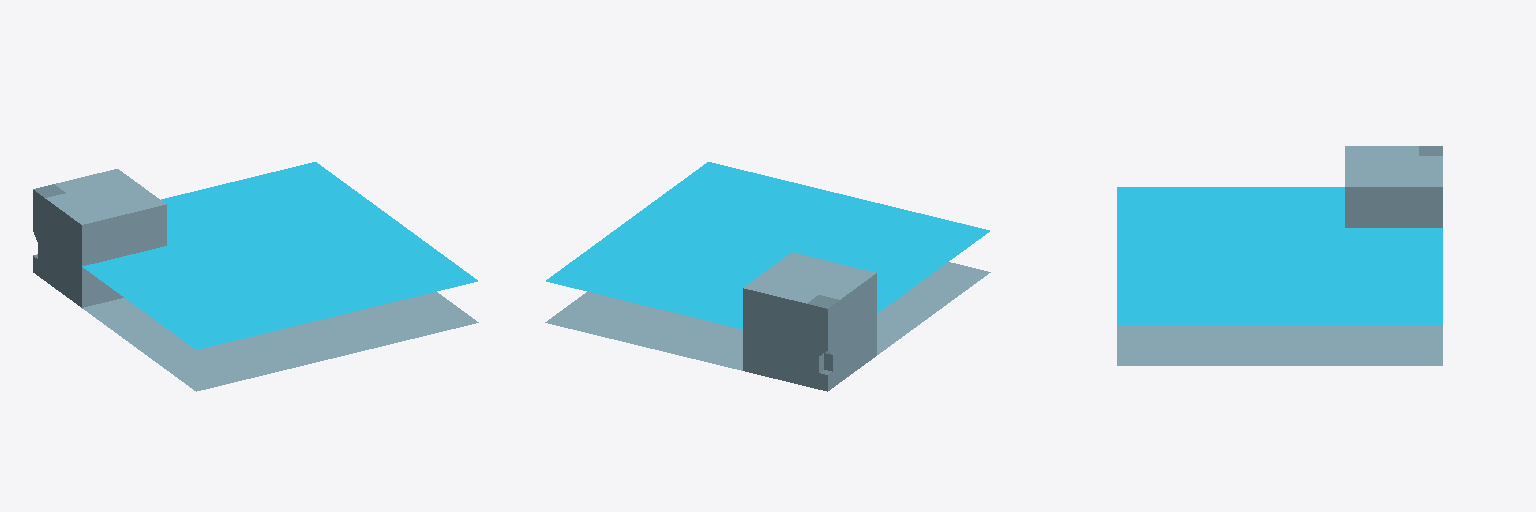
The model's file is fountainCornerInnerSquare.obj.
3 renders of one model, left to right at view 1: azimuth 30°, elevation 25°; view 2: azimuth 150°, elevation 25°; view 3: azimuth 270°, elevation 25°, orthographic.
Visible parts, largest first — view 1: fountainCornerInnerSquare; view 2: fountainCornerInnerSquare; view 3: fountainCornerInnerSquare.
Boxes of the visible parts, <box> form: fountainCornerInnerSquare: <box>33,162,478,391</box>; fountainCornerInnerSquare: <box>545,162,990,391</box>; fountainCornerInnerSquare: <box>1117,146,1442,365</box>.
Size of the model in its own units: 1 by 0.28 by 1.